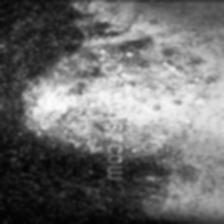Toxin: (18, 65, 88, 109), (88, 33, 116, 51)
